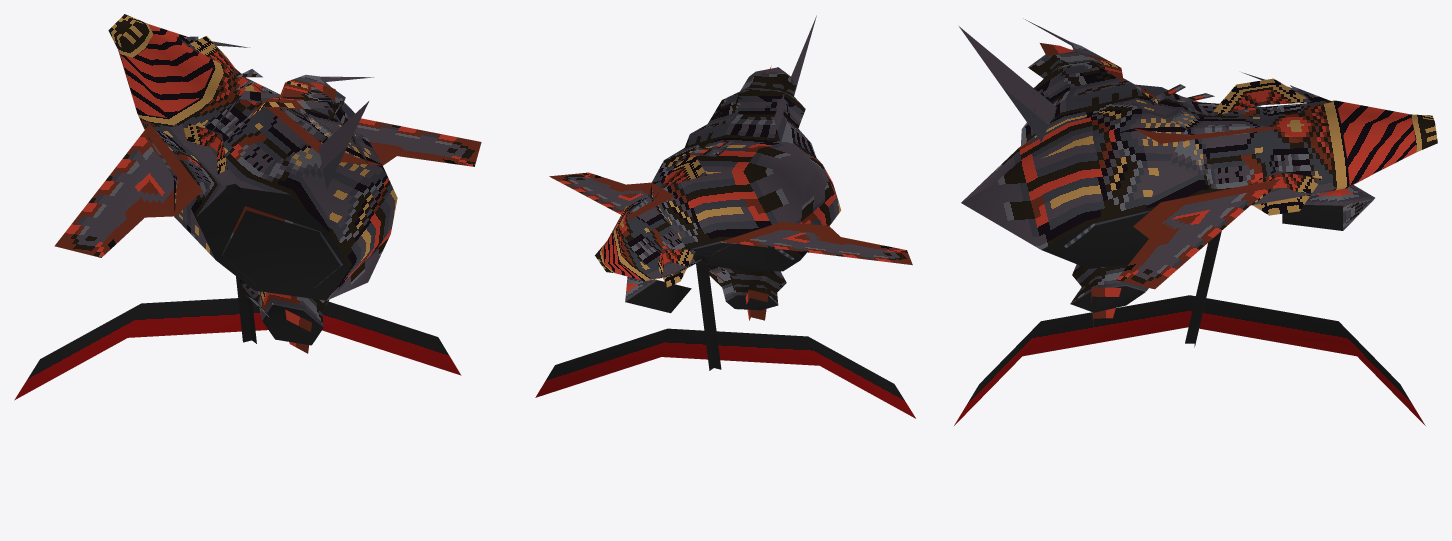
Rendered from ps2_save-icons_superrobotwarsoriginalgenerations2.glb.
3 renders of one model, left to right at view 1: azimuth 30°, elevation 25°; view 2: azimuth 150°, elevation 25°; view 3: azimuth 270°, elevation 25°, orthographic. The views are drawn at different scales.
Visible parts, largest first — view 1: scenario.ico; view 2: scenario.ico; view 3: scenario.ico.
Part boxes in pixels (x1,y1,x2,y2): scenario.ico: (14,14,481,400); scenario.ico: (535,15,915,418); scenario.ico: (954,18,1437,425).
Size of the model in its own units: 4.8 by 4.45 by 4.95.
1 material, 1 textured.
